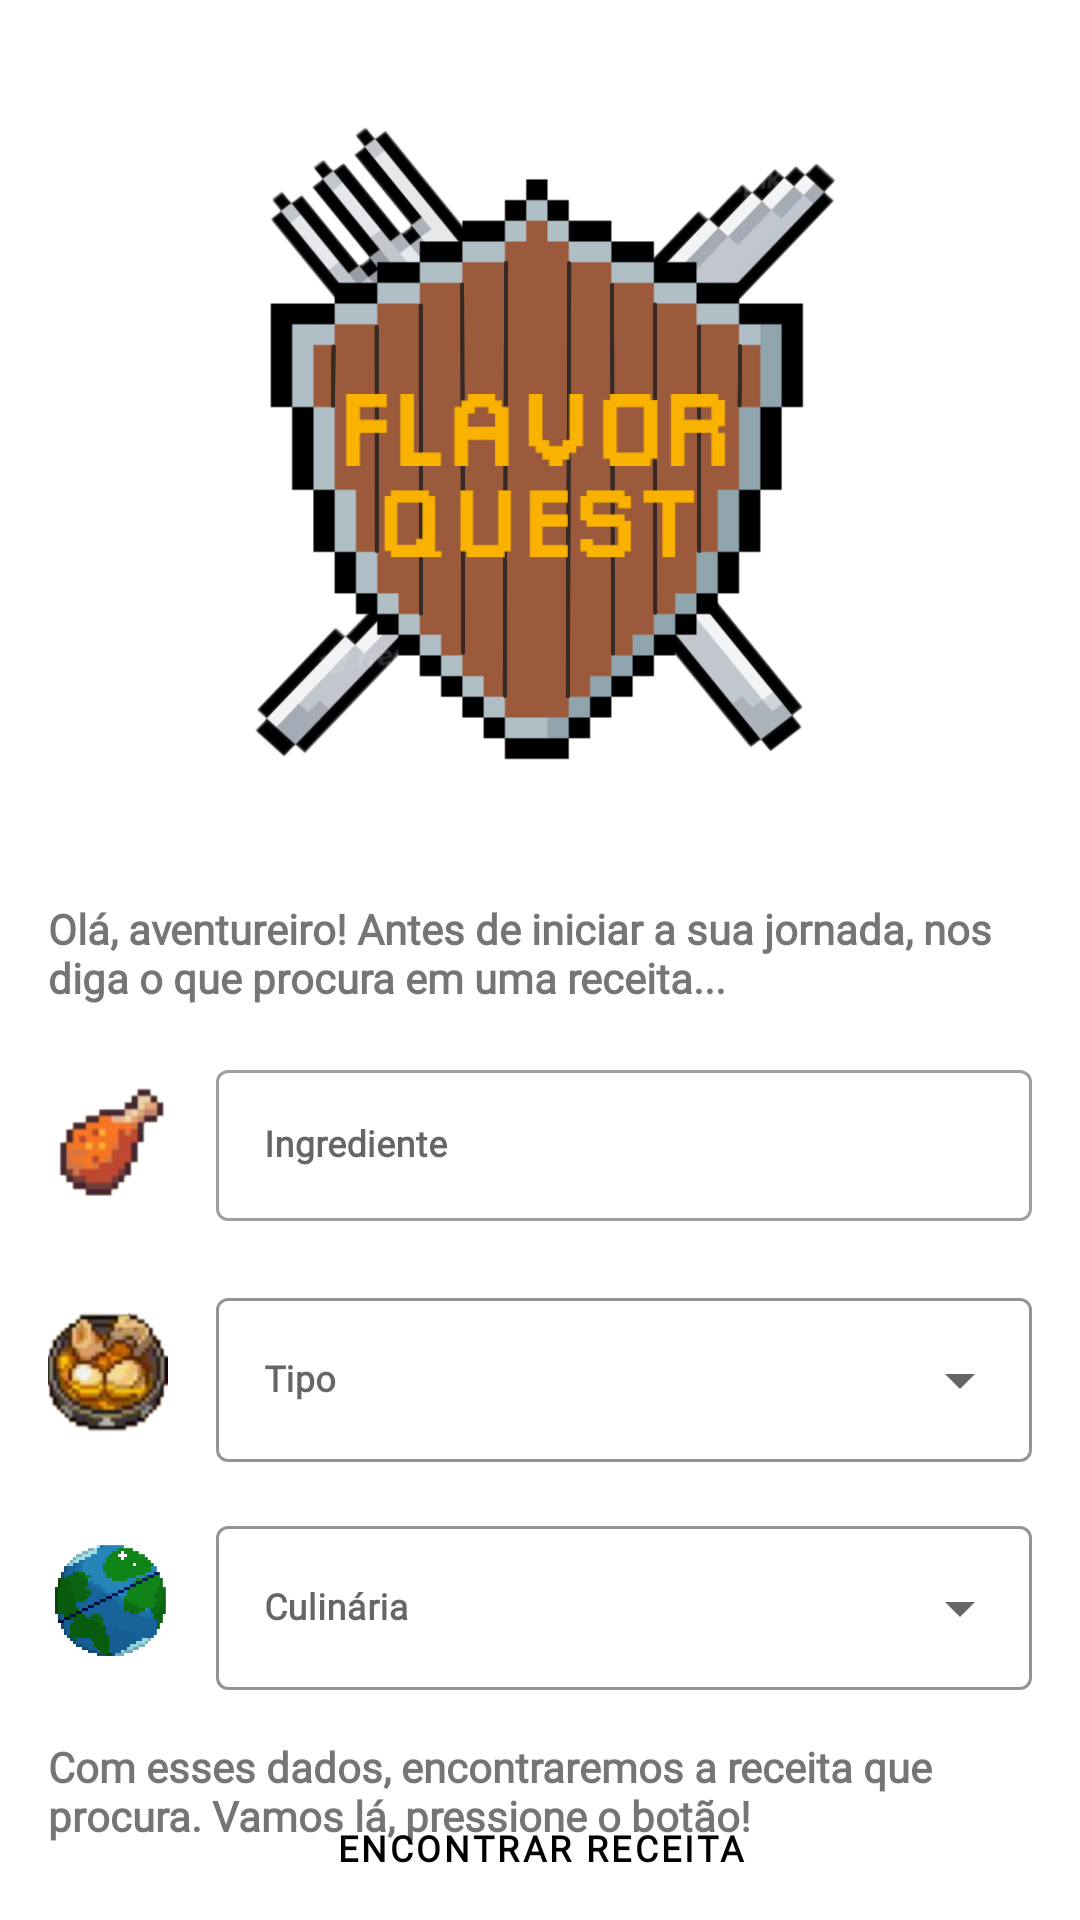

Screen size 1080*1920. Icon name, then its box in pixels as (x1=x1, y1=y1, x2=x2, y2=y2):
chicken: (x1=60, y1=1088, x2=164, y2=1196)
food: (x1=48, y1=1313, x2=168, y2=1431)
globe: (x1=55, y1=1545, x2=166, y2=1656)
